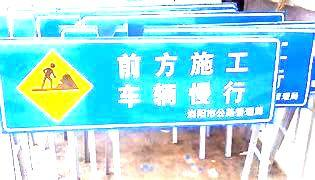sign: (1, 38, 278, 125)
